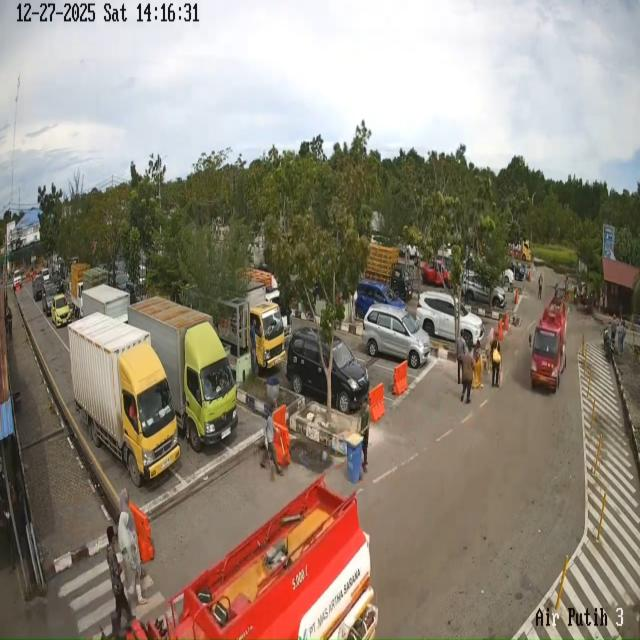Golongan IVA: (286, 327, 370, 414), (362, 304, 430, 368), (416, 291, 485, 346), (355, 280, 406, 319), (462, 271, 506, 308), (421, 260, 450, 288), (41, 280, 60, 316), (51, 294, 71, 328), (32, 274, 44, 301), (41, 267, 50, 282)
Golongan VB: (98, 406, 378, 640), (68, 313, 180, 486), (128, 297, 238, 452), (530, 292, 568, 392), (82, 284, 130, 323)
